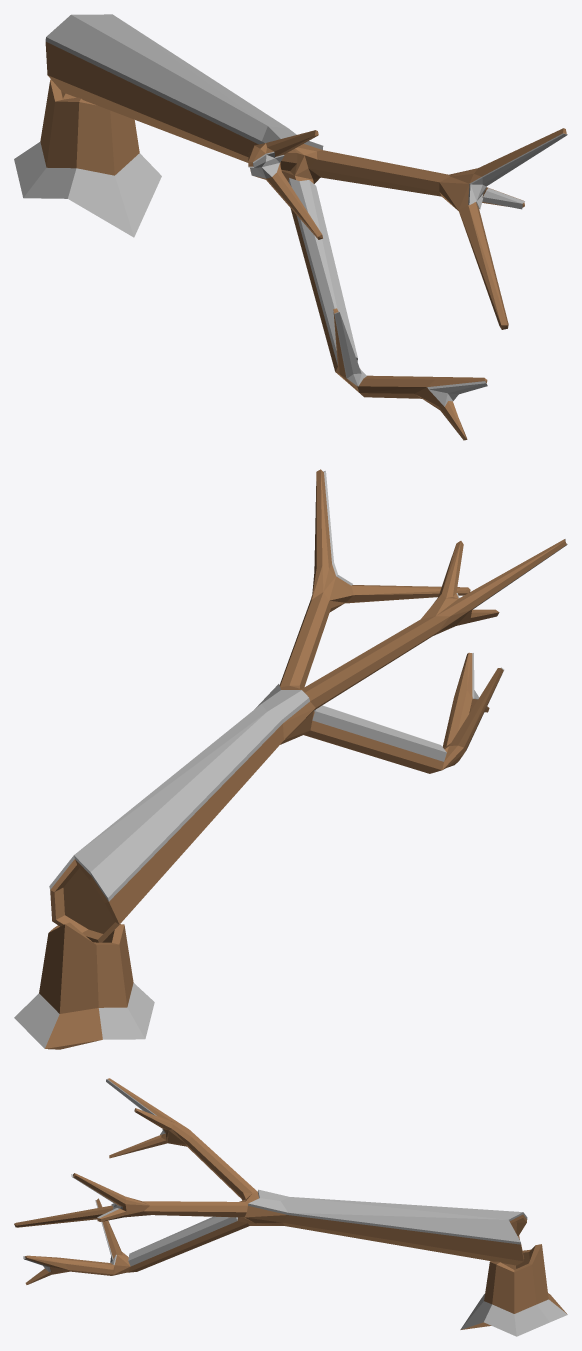
The model's file is Tree_4 Broken Winter.fbx.
3 renders of one model, top to bottom at view 1: azimuth 30°, elevation 25°; view 2: azimuth 150°, elevation 25°; view 3: azimuth 270°, elevation 25°, orthographic. The views are drawn at different scales.
Parts seen in each view (by area): view 1: Tree4BrokenWinter_mesh; view 2: Tree4BrokenWinter_mesh; view 3: Tree4BrokenWinter_mesh.
Part boxes in pixels (x1,y1,x2,y2): Tree4BrokenWinter_mesh: (14, 14, 567, 440); Tree4BrokenWinter_mesh: (14, 469, 567, 1049); Tree4BrokenWinter_mesh: (14, 1078, 567, 1336).
Bounding box in the file's own units: 221 × 239 × 598.
